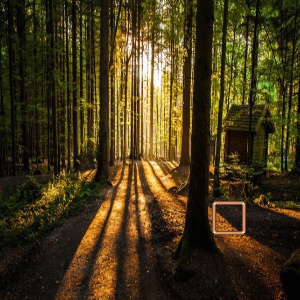square: (212, 201, 247, 235)
